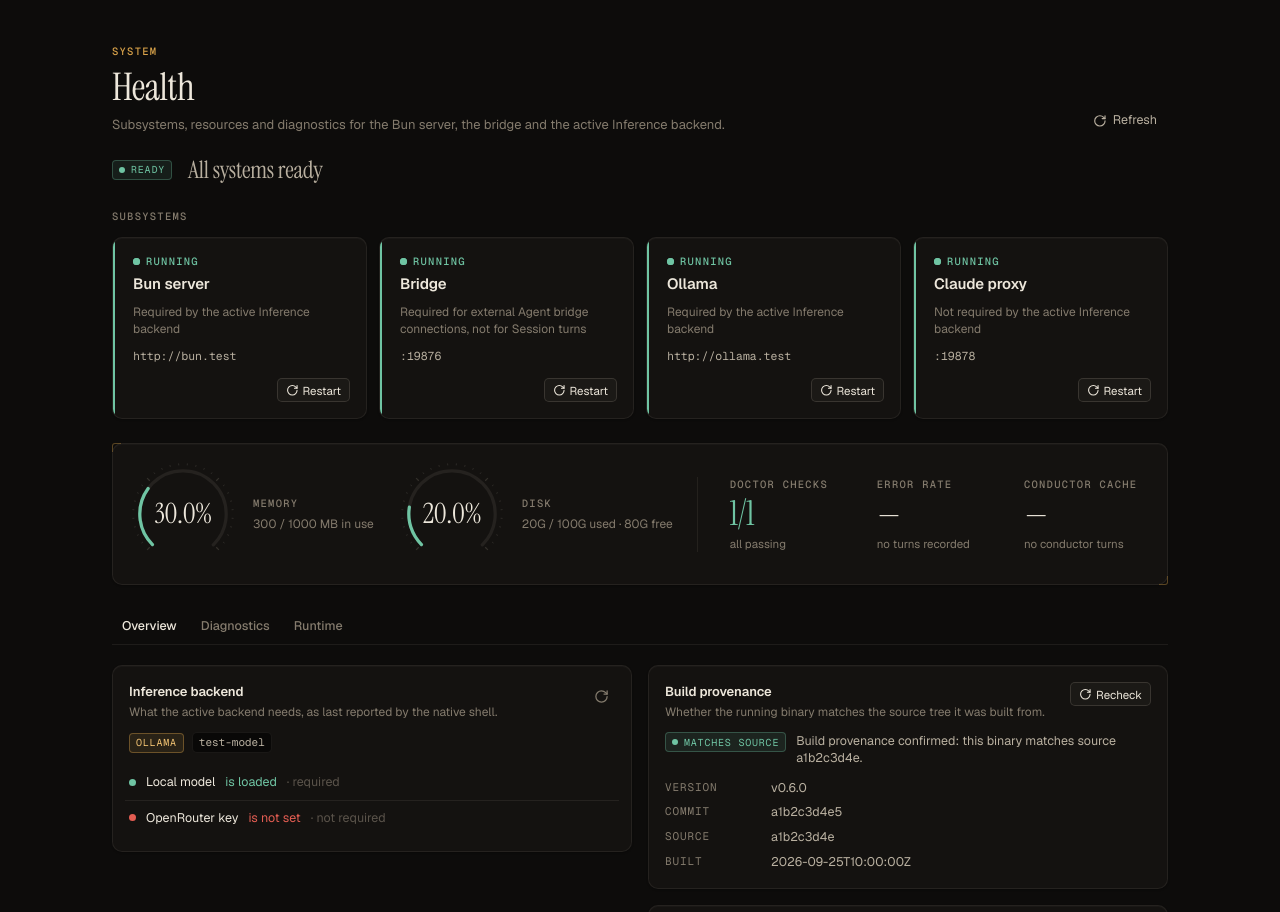
Test: Health page runtime telemetry › renders runtime provenance, readiness, inference, orchestration, cache and directives
Step 1. Click the tab "Runtime" → (318, 627), box [284,609,353,645]
(page scrolled)
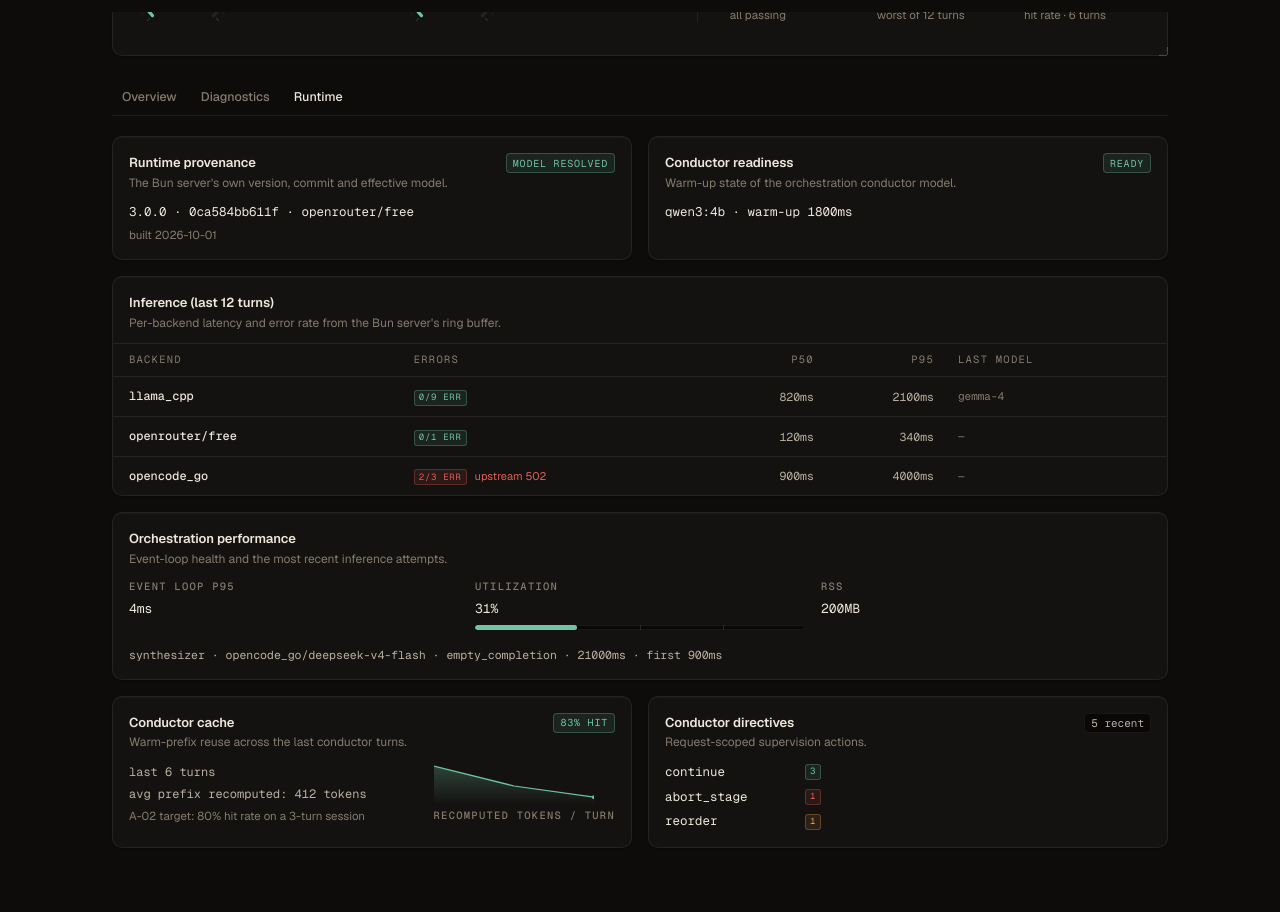
Expected: the text "3.0.0 · 0ca584bb611f · openrouter/free" is shown, [129,203,414,220]
Expected: the text "model resolved" is shown, [513,156,608,171]
Expected: the text "qwen3:4b · warm-up 1800ms" is shown, [665,203,852,220]
